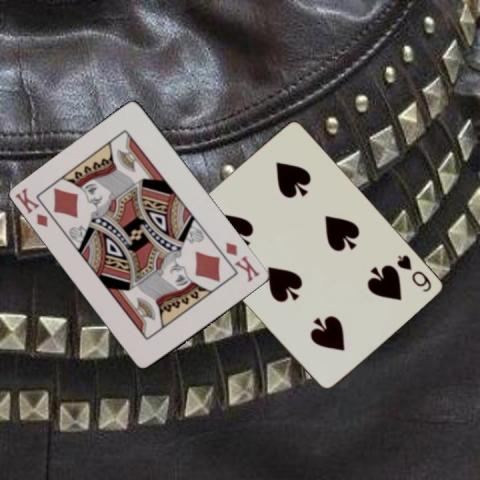6s: (393, 252, 433, 293)
Kd: (223, 239, 261, 284), (12, 184, 50, 228)
